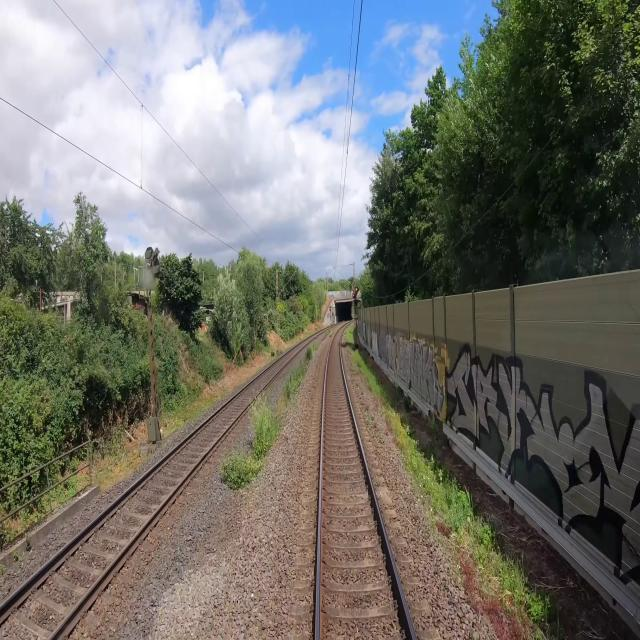Plant: (218, 388, 282, 490), (276, 339, 321, 411), (344, 327, 349, 343)
